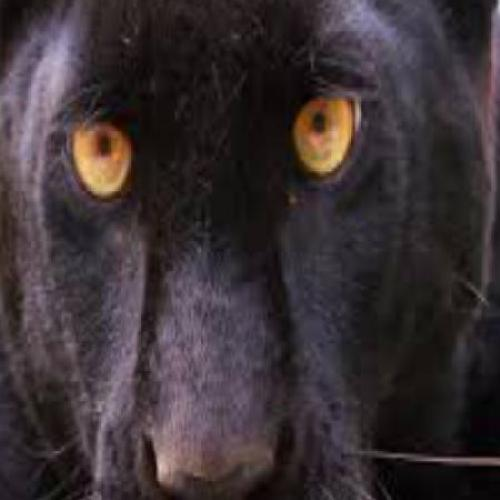panther-endangered: (21, 22, 452, 468)
